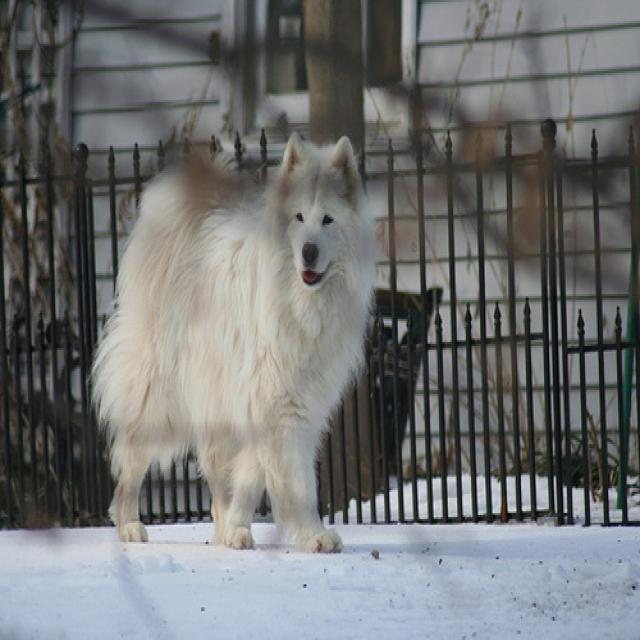dog-samoyed: (96, 125, 383, 571)
